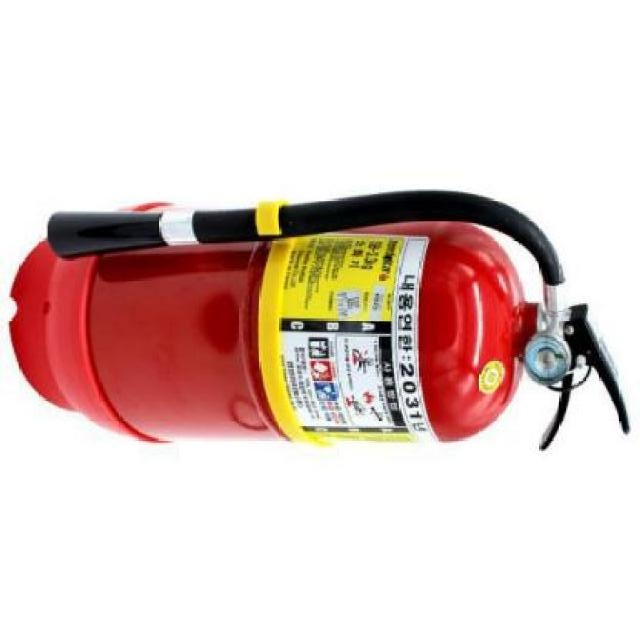fire extinguisher: (12, 190, 632, 452)
